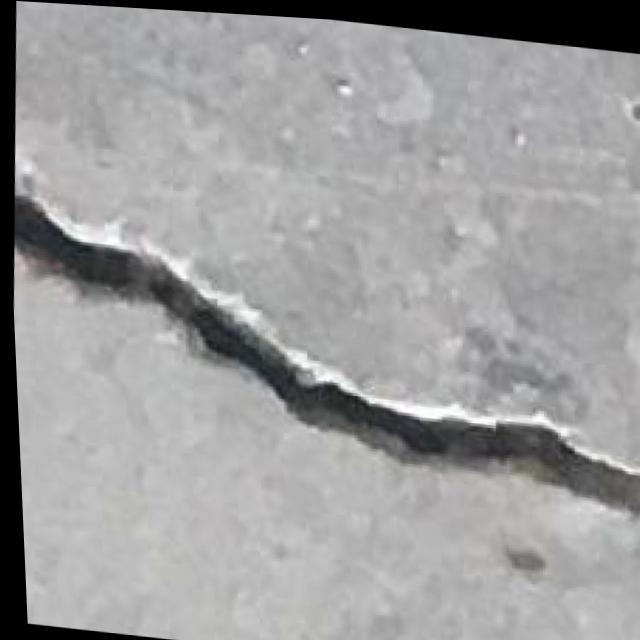Crack: (7, 189, 640, 587)
